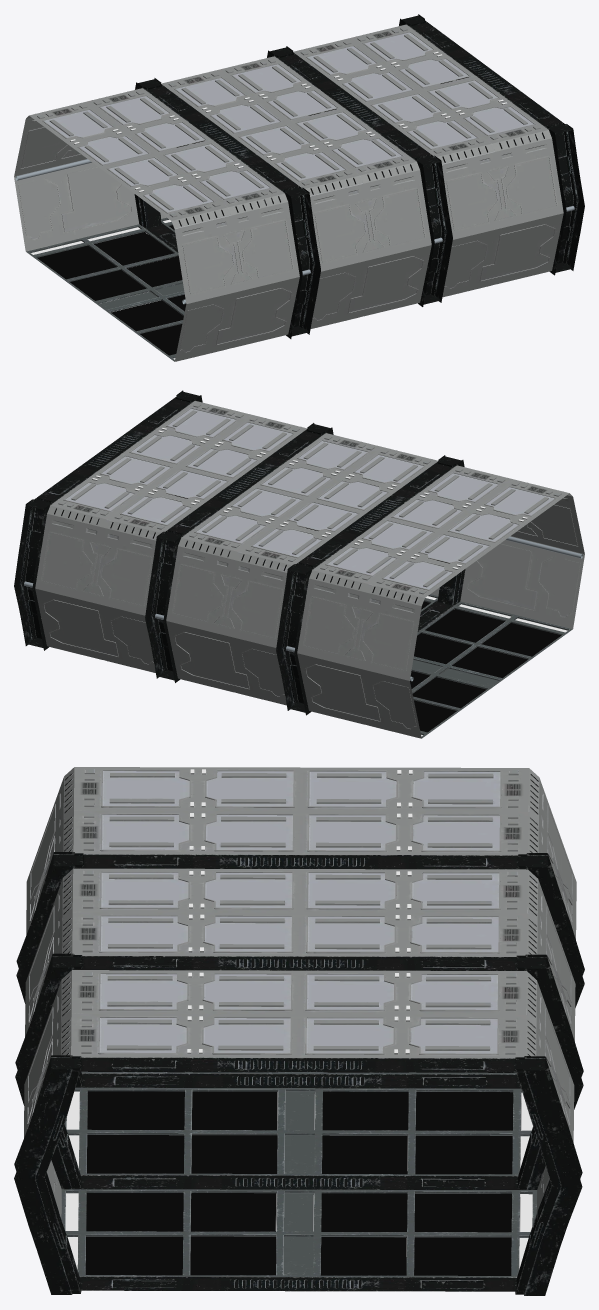
3 views of the same model, one above another, from view 1: azimuth 30°, elevation 25°; view 2: azimuth 150°, elevation 25°; view 3: azimuth 270°, elevation 25° (orthographic). The views are drawn at different scales.
Parts seen in each view (by area): view 1: Object_5, Object_4, Object_3, Object_6, Object_2; view 2: Object_5, Object_4, Object_3, Object_6, Object_2; view 3: Object_2, Object_6, Object_4, Object_3, Object_5.
Part boxes in pixels (<box>): Object_5: <box>14,88,299,361</box>; Object_4: <box>21,24,563,352</box>; Object_3: <box>160,28,556,328</box>; Object_6: <box>15,14,584,338</box>; Object_2: <box>26,217,545,361</box>; Object_5: <box>297,465,584,738</box>; Object_4: <box>35,401,580,728</box>; Object_3: <box>44,405,439,705</box>; Object_6: <box>14,390,583,715</box>; Object_2: <box>53,594,572,738</box>; Object_2: <box>61,1071,536,1277</box>; Object_6: <box>14,852,584,1295</box>; Object_4: <box>24,769,574,1217</box>; Object_3: <box>25,868,575,1188</box>; Object_5: <box>26,767,576,939</box>.
Bounding box in the file's own units: 11.89 × 4.09 × 9.39.
Materials: 3 (3 with a texture image).
